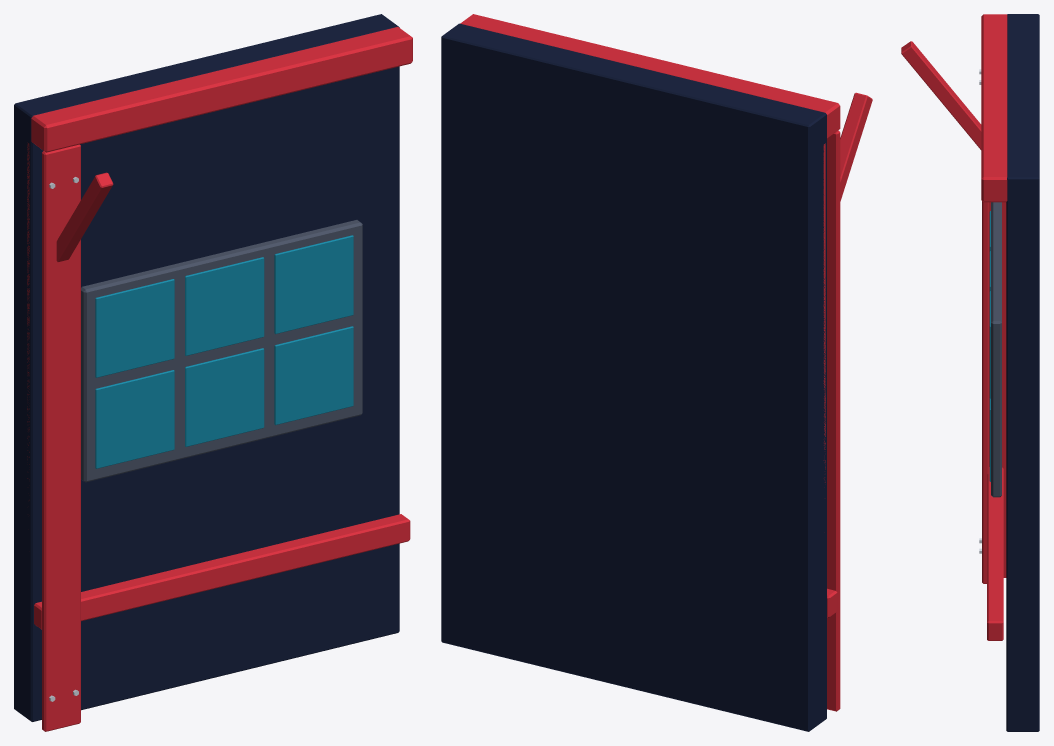
File: Wall_Upper.fbx
The picture shows the model from 3 angles, left to right: view 1: azimuth 30°, elevation 25°; view 2: azimuth 150°, elevation 25°; view 3: azimuth 270°, elevation 25°; orthographic projection. The views are drawn at different scales.
Visible parts, largest first — view 1: Wall_Upper; view 2: Wall_Upper; view 3: Wall_Upper.
Part boxes in pixels (left/top/right/bottom): Wall_Upper: left=14, top=14, right=412, bottom=731; Wall_Upper: left=441, top=14, right=872, bottom=731; Wall_Upper: left=901, top=14, right=1039, bottom=731.
Size of the model in its own units: 14 by 22 by 4.98.
1 material, 1 textured.
